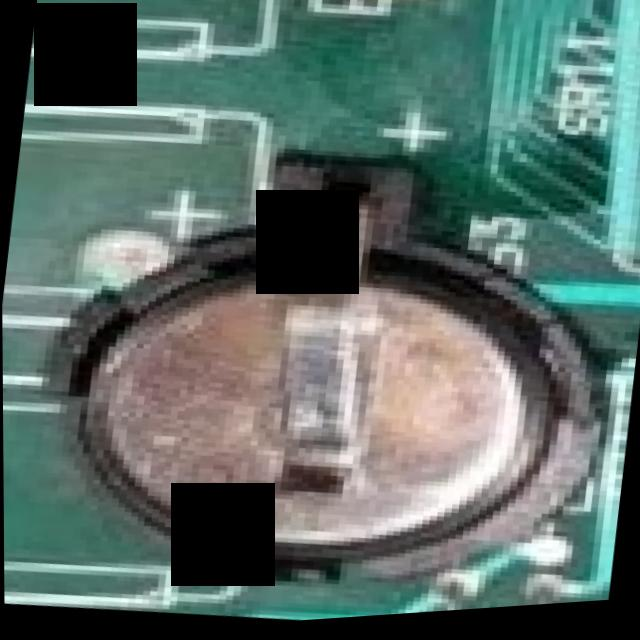battery: (21, 148, 596, 632)
